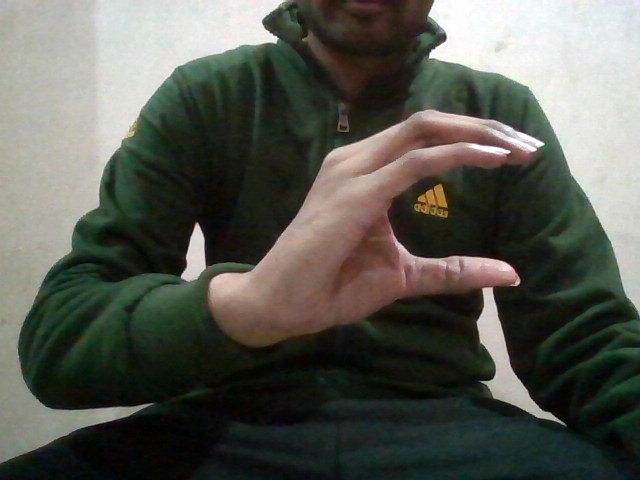C: (250, 109, 546, 334)
